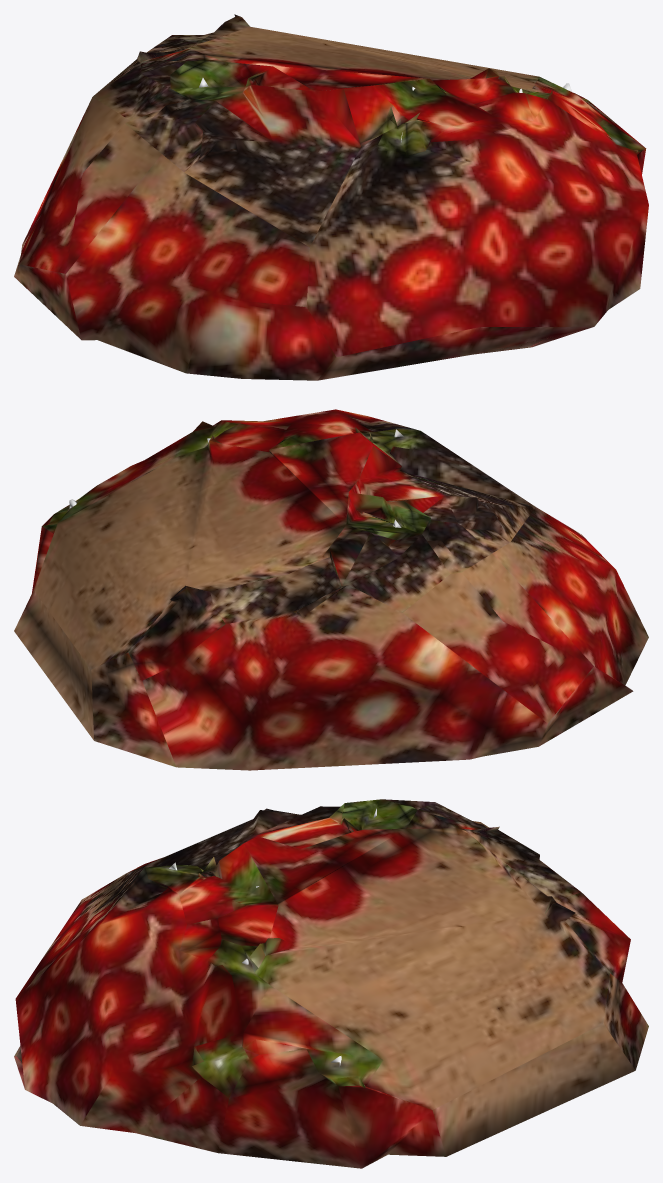
Rendered from strawberry_chocolate_cake.glb.
3 views of the same model, one above another, from view 1: azimuth 30°, elevation 25°; view 2: azimuth 150°, elevation 25°; view 3: azimuth 270°, elevation 25° (orthographic). The views are drawn at different scales.
Visible parts, largest first — view 1: strawberry_chocolate_cake; view 2: strawberry_chocolate_cake; view 3: strawberry_chocolate_cake.
Boxes of the visible parts, x1,y1,x2,y2 form: strawberry_chocolate_cake: (14,14,648,380); strawberry_chocolate_cake: (14,409,648,770); strawberry_chocolate_cake: (14,799,648,1168).
Size of the model in its own units: 0.2366 by 0.0766 by 0.2312.
1 material, 1 textured.
